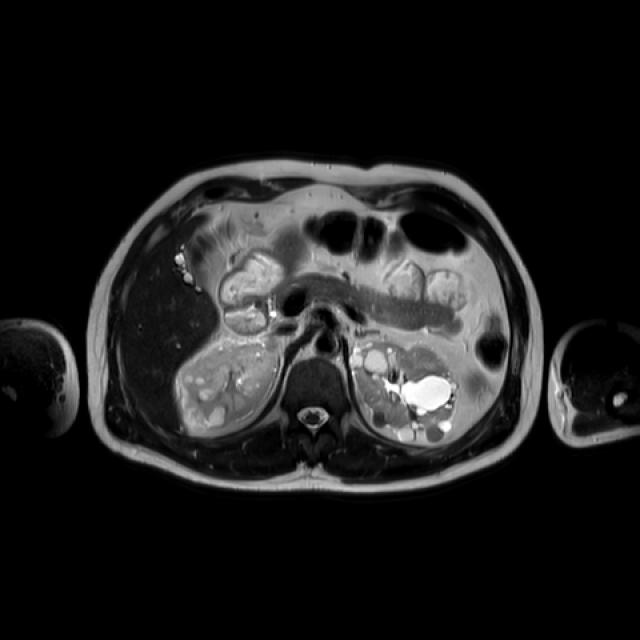sag: (178, 338, 279, 433)
sol: (350, 341, 460, 446)
